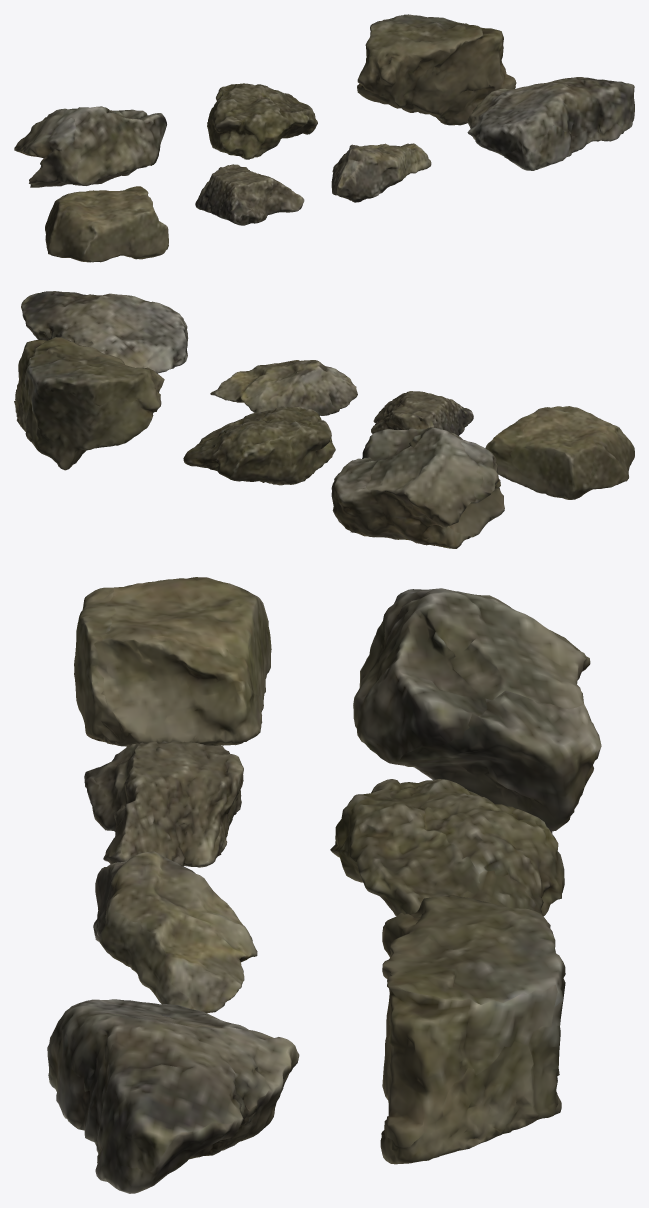
File: rock_moss_set_02.db8321f7d1.glb
3 views of the same model, one above another, from view 1: azimuth 30°, elevation 25°; view 2: azimuth 150°, elevation 25°; view 3: azimuth 270°, elevation 25° (orthographic). The views are drawn at different scales.
Visible parts, largest first — view 1: rock_moss_set_02_rock13, rock_moss_set_02_rock10, rock_moss_set_02_rock11, rock_moss_set_02_rock07, rock_moss_set_02_rock12, rock_moss_set_02_rock08, rock_moss_set_02_rock09; view 2: rock_moss_set_02_rock11, rock_moss_set_02_rock13, rock_moss_set_02_rock07, rock_moss_set_02_rock10, rock_moss_set_02_rock12, rock_moss_set_02_rock09, rock_moss_set_02_rock08; view 3: rock_moss_set_02_rock13, rock_moss_set_02_rock11, rock_moss_set_02_rock10, rock_moss_set_02_rock07, rock_moss_set_02_rock12, rock_moss_set_02_rock09, rock_moss_set_02_rock08.
Boxes of the visible parts, bbox=[...] form: rock_moss_set_02_rock13: bbox=[357, 14, 516, 125]; rock_moss_set_02_rock10: bbox=[467, 77, 634, 170]; rock_moss_set_02_rock11: bbox=[14, 106, 166, 187]; rock_moss_set_02_rock07: bbox=[45, 186, 168, 262]; rock_moss_set_02_rock12: bbox=[207, 83, 317, 159]; rock_moss_set_02_rock08: bbox=[195, 164, 304, 225]; rock_moss_set_02_rock09: bbox=[331, 143, 431, 202]; rock_moss_set_02_rock11: bbox=[331, 427, 504, 548]; rock_moss_set_02_rock13: bbox=[14, 337, 164, 470]; rock_moss_set_02_rock07: bbox=[485, 406, 634, 499]; rock_moss_set_02_rock10: bbox=[21, 291, 188, 373]; rock_moss_set_02_rock12: bbox=[183, 406, 335, 485]; rock_moss_set_02_rock09: bbox=[210, 360, 357, 415]; rock_moss_set_02_rock08: bbox=[371, 391, 473, 435]; rock_moss_set_02_rock13: bbox=[380, 895, 565, 1164]; rock_moss_set_02_rock11: bbox=[353, 588, 601, 833]; rock_moss_set_02_rock10: bbox=[47, 999, 299, 1193]; rock_moss_set_02_rock07: bbox=[74, 577, 271, 746]; rock_moss_set_02_rock12: bbox=[330, 779, 564, 927]; rock_moss_set_02_rock09: bbox=[93, 851, 257, 1013]; rock_moss_set_02_rock08: bbox=[84, 741, 243, 867].
Bounding box in the file's own units: 8.28 × 1.37 × 3.41.
Materials: 1 (1 with a texture image).
